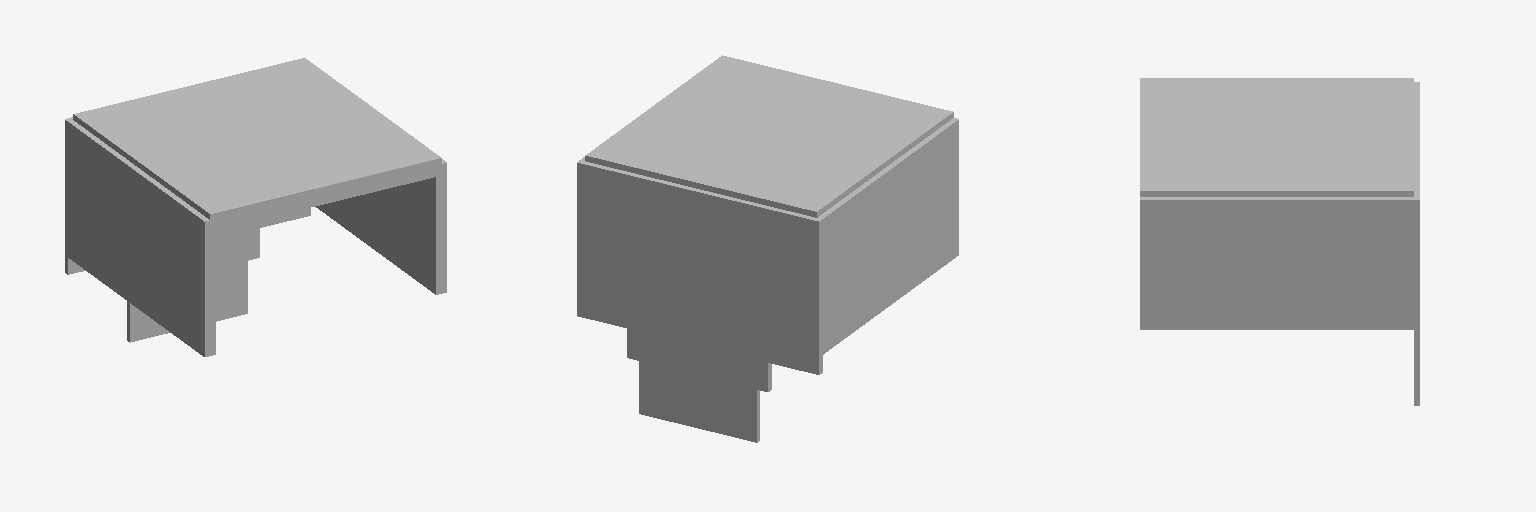
File: hair2.obj
3 renders of one model, left to right at view 1: azimuth 30°, elevation 25°; view 2: azimuth 150°, elevation 25°; view 3: azimuth 270°, elevation 25°, orthographic.
Visible parts, largest first — view 1: object 1; view 2: object 1; view 3: object 1.
Part boxes in pixels (left/top/right/bottom): object 1: left=65, top=58, right=446, bottom=356; object 1: left=577, top=55, right=958, bottom=442; object 1: left=1140, top=78, right=1419, bottom=405.
Size of the model in its own units: 4.3 by 4.1 by 4.3.